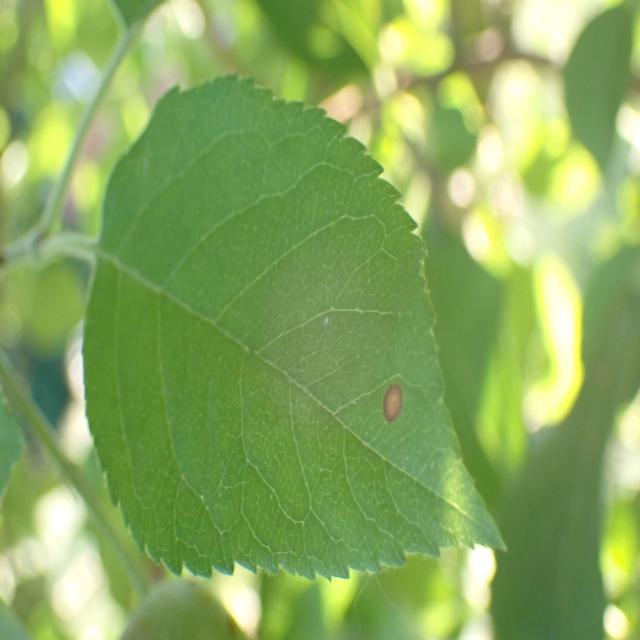Black Rot: (366, 375, 404, 436)
